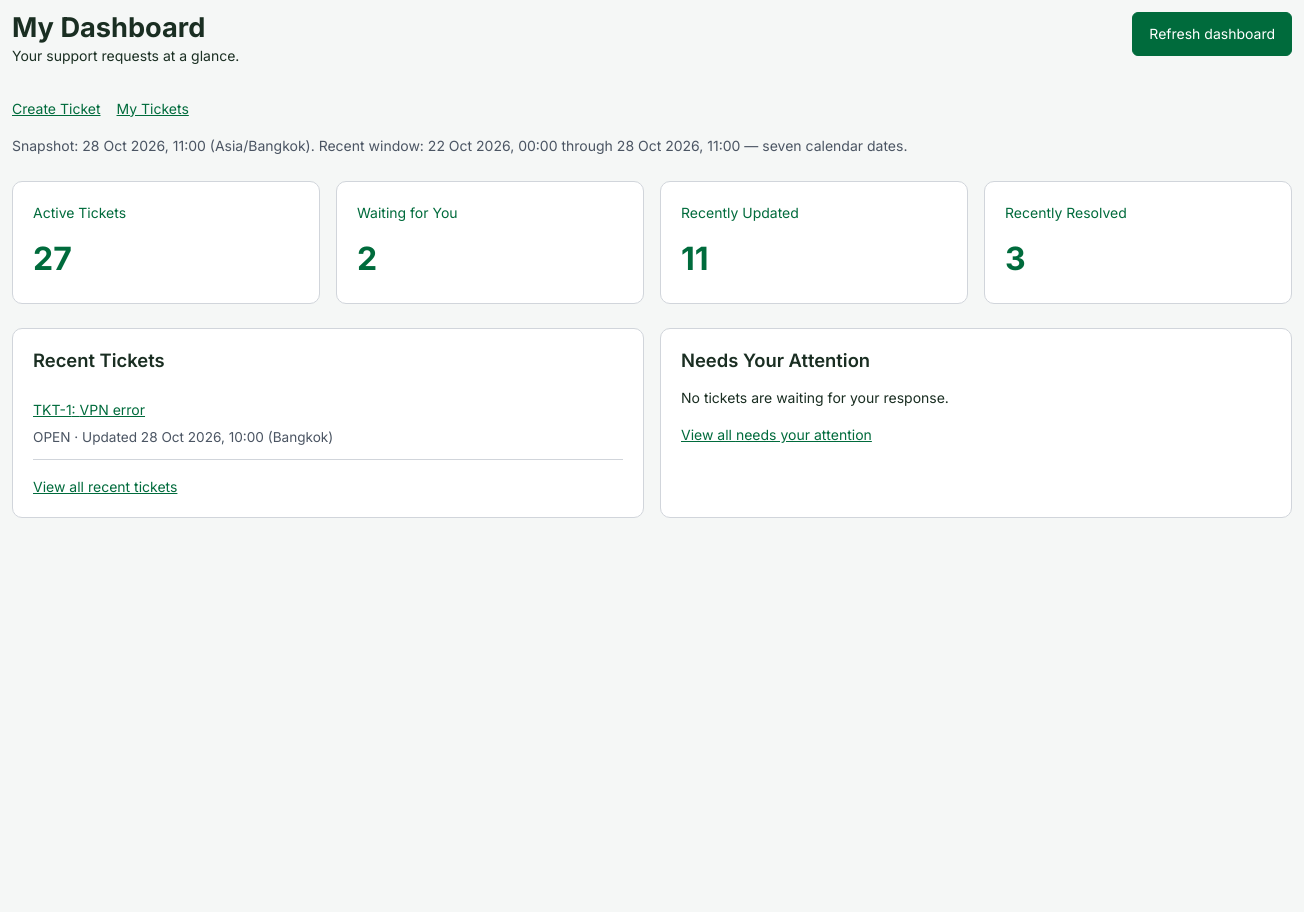
Requester dashboard states › keeps a labelled previous snapshot after a recoverable refresh failure
expect the link with aria-label "Active Tickets: 27" is shown: met, box [12,181,320,304]
Click the button "Refresh dashboard" at {"x": 1212, "y": 34}, box [1132,12,1292,56]
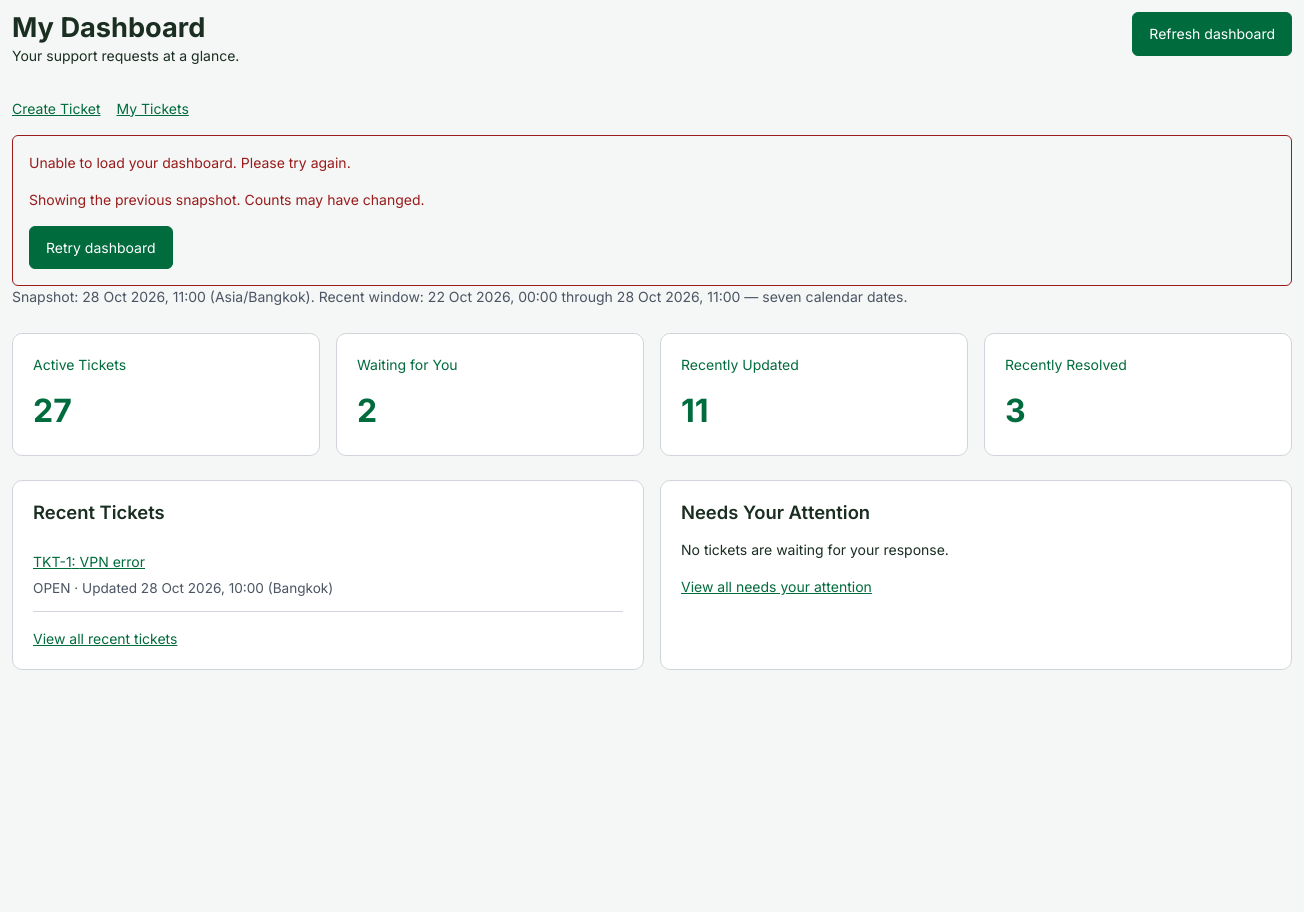
expect the link with aria-label "Active Tickets: 27" is shown: met, box [12,333,320,456]
expect the message shows "Showing the previous snapshot": met, box [29,191,424,208]
